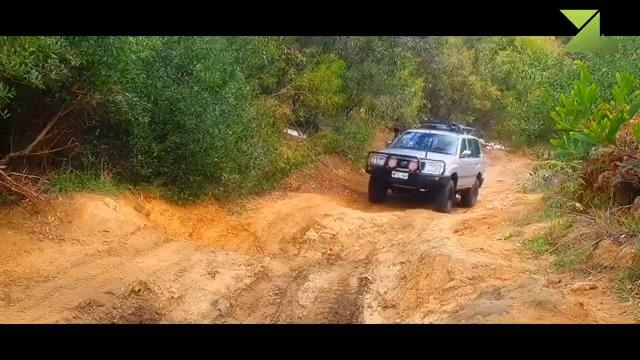MIL_HMMWV: (365, 121, 483, 214)
